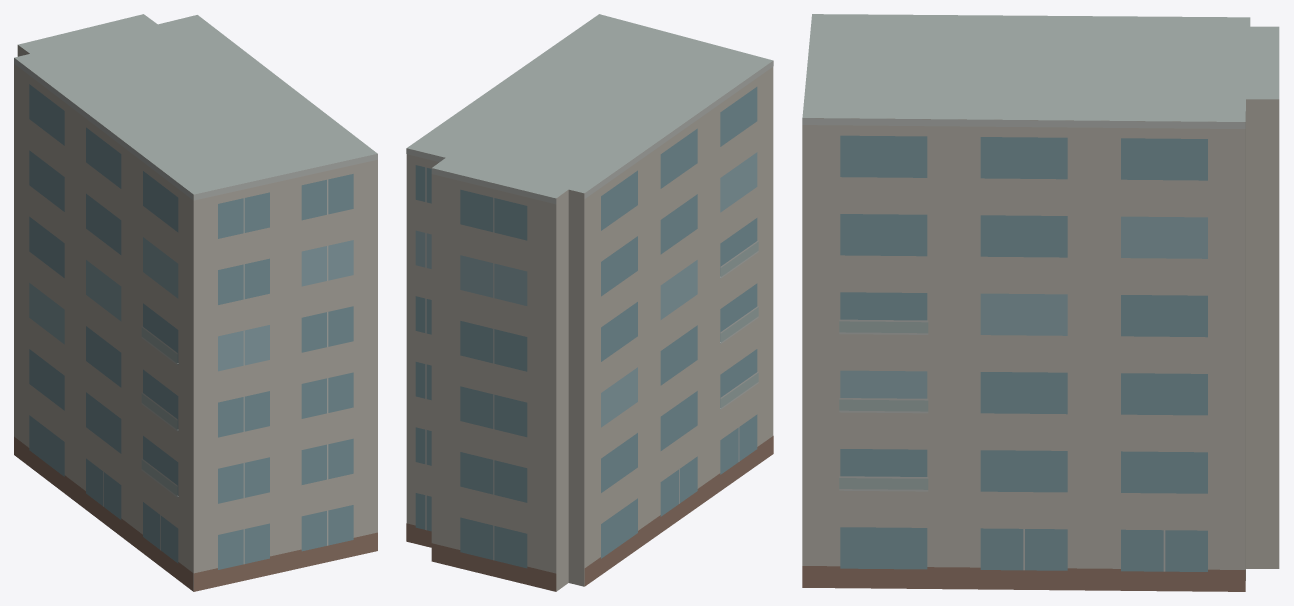
Rendered from survey-upis-32576948.glb.
The picture shows the model from 3 angles, left to right: view 1: azimuth 30°, elevation 25°; view 2: azimuth 150°, elevation 25°; view 3: azimuth 270°, elevation 25°; orthographic projection. The views are drawn at different scales.
Visible parts, largest first — view 1: survey-upis-32576948.tmp; view 2: survey-upis-32576948.tmp; view 3: survey-upis-32576948.tmp.
Boxes of the visible parts, x1=… form: survey-upis-32576948.tmp: x1=14, y1=14, x2=377, y2=591; survey-upis-32576948.tmp: x1=406, y1=14, x2=773, y2=591; survey-upis-32576948.tmp: x1=802, y1=14, x2=1279, y2=591.
Bounding box in the file's own units: 7.99 × 16.15 × 14.88.
